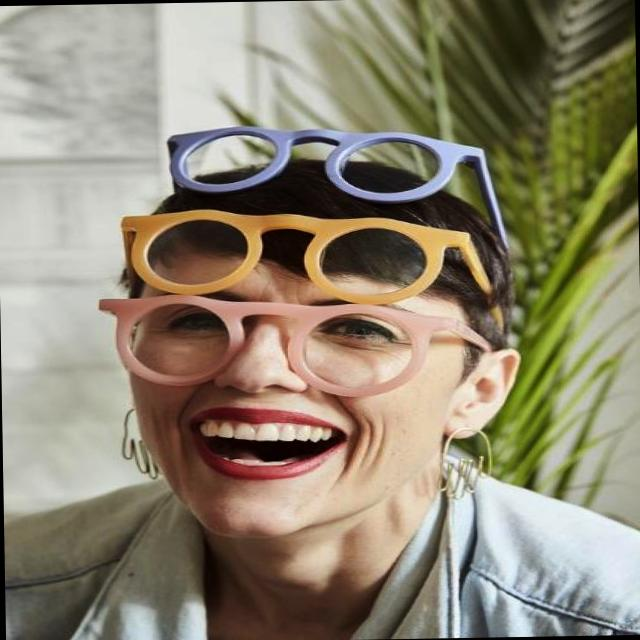glasses: (118, 204, 502, 334), (168, 122, 507, 254), (99, 290, 497, 401)
